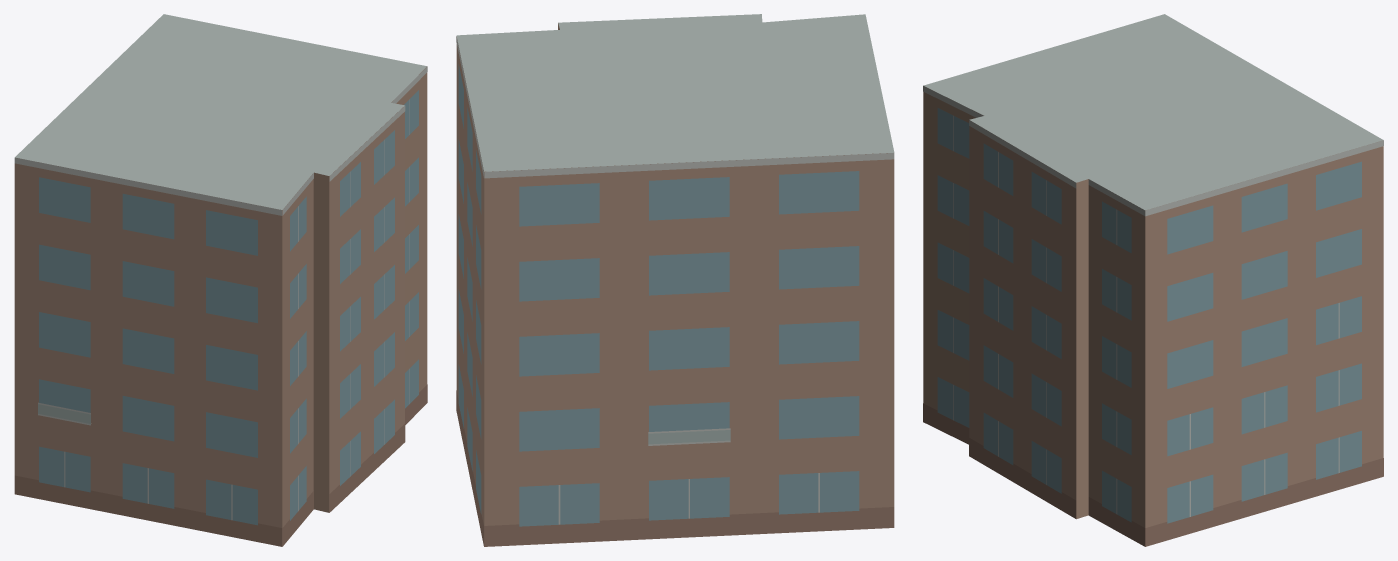
Rendered from survey-upis-32751561.glb.
3 views of the same model, side by side, from view 1: azimuth 30°, elevation 25°; view 2: azimuth 150°, elevation 25°; view 3: azimuth 270°, elevation 25° (orthographic). The views are drawn at different scales.
Parts seen in each view (by area): view 1: survey-upis-32751561.tmp; view 2: survey-upis-32751561.tmp; view 3: survey-upis-32751561.tmp.
Part boxes in pixels (x1,y1,x2,y2): survey-upis-32751561.tmp: (14, 14, 427, 546); survey-upis-32751561.tmp: (456, 14, 894, 546); survey-upis-32751561.tmp: (923, 14, 1383, 546).
Size of the model in its own units: 17.35 by 13.85 by 17.2.
